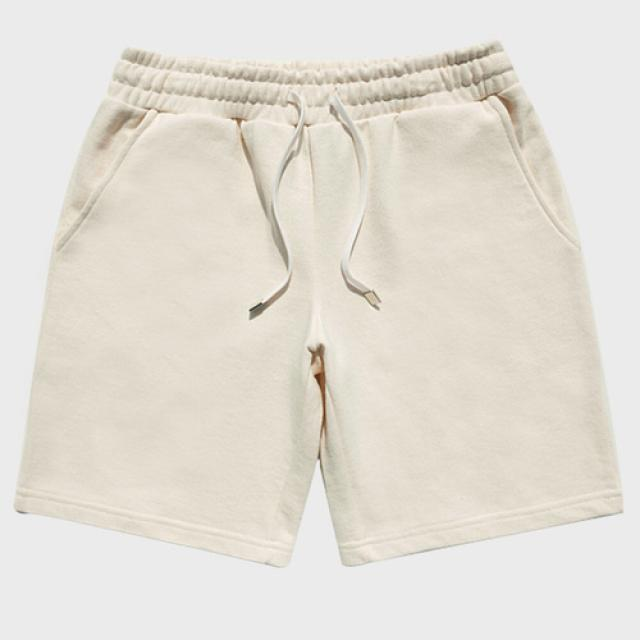Shorts_pastel: (29, 59, 612, 549)
